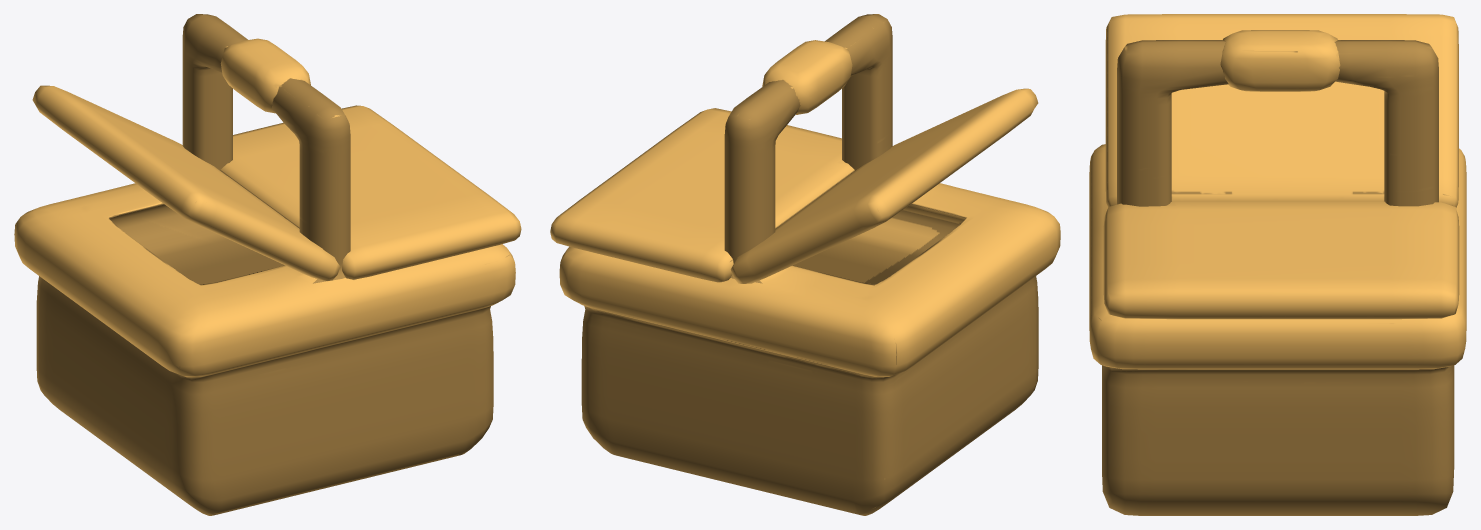
Rendered from canastauv.fbx.
3 renders of one model, left to right at view 1: azimuth 30°, elevation 25°; view 2: azimuth 150°, elevation 25°; view 3: azimuth 270°, elevation 25°, orthographic. The views are drawn at different scales.
Parts seen in each view (by area): view 1: Cubo; view 2: Cubo; view 3: Cubo.
Boxes of the visible parts, box(x1,y1,x2,y2) form: Cubo: box(14, 14, 521, 515); Cubo: box(550, 14, 1060, 515); Cubo: box(1089, 14, 1466, 515).
Size of the model in its own units: 637 by 651 by 535.
